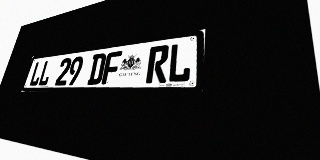2: (55, 57, 73, 86)
9: (66, 56, 85, 85)
D: (87, 53, 107, 85)
F: (101, 51, 122, 84)
L: (167, 42, 192, 83), (37, 60, 54, 86), (28, 61, 45, 86)
R: (146, 44, 170, 83)
